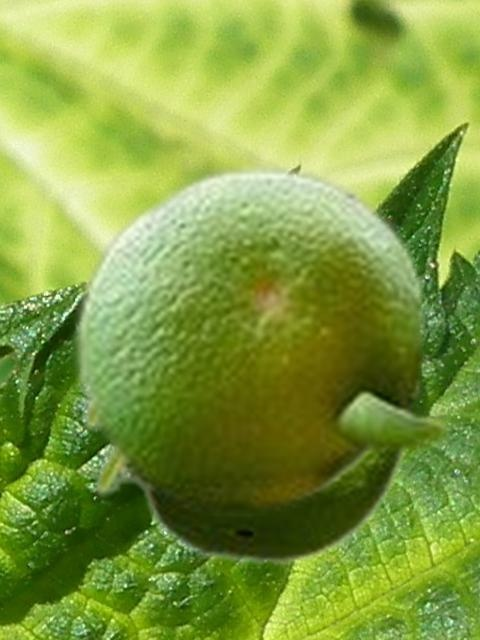dalandan: (69, 158, 455, 515), (90, 447, 409, 567)
